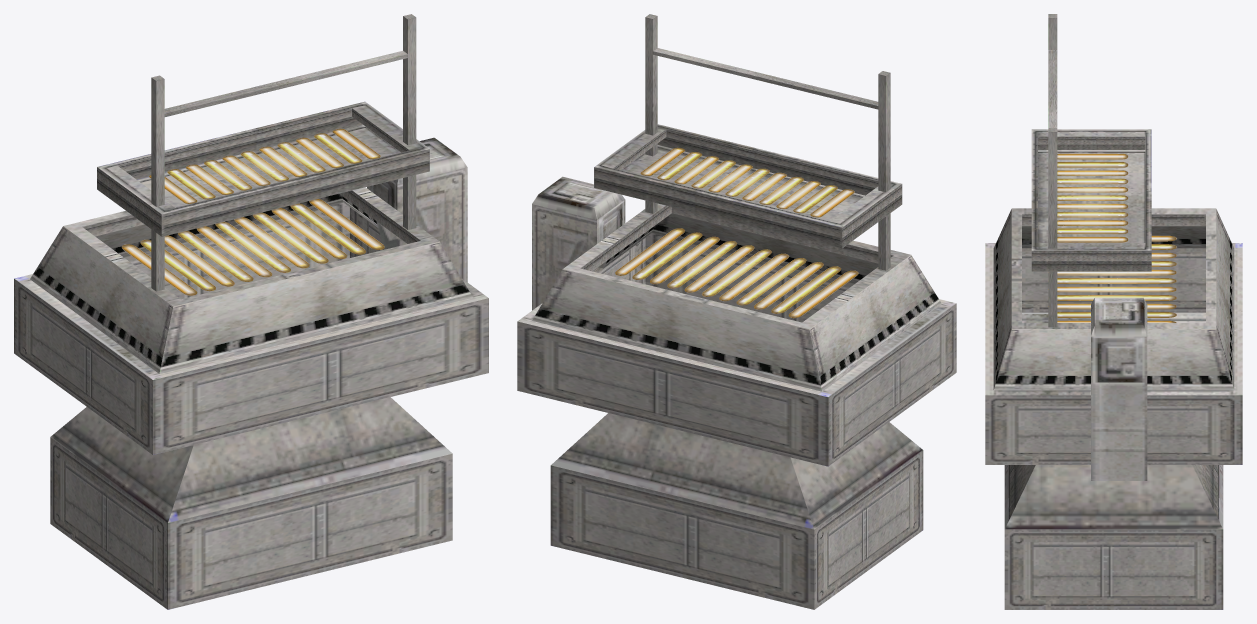
Rendered from eqp_camping_spit_s2_l0.fbx.
3 renders of one model, left to right at view 1: azimuth 30°, elevation 25°; view 2: azimuth 150°, elevation 25°; view 3: azimuth 270°, elevation 25°, orthographic. The views are drawn at different scales.
Parts seen in each view (by area): view 1: mesh_node; view 2: mesh_node; view 3: mesh_node.
Part boxes in pixels (bbox=[...]): mesh_node: bbox=[14, 14, 488, 609]; mesh_node: bbox=[517, 14, 956, 609]; mesh_node: bbox=[985, 14, 1242, 609].
Bounding box in the file's own units: 0.9117 × 1.19 × 0.5895.
